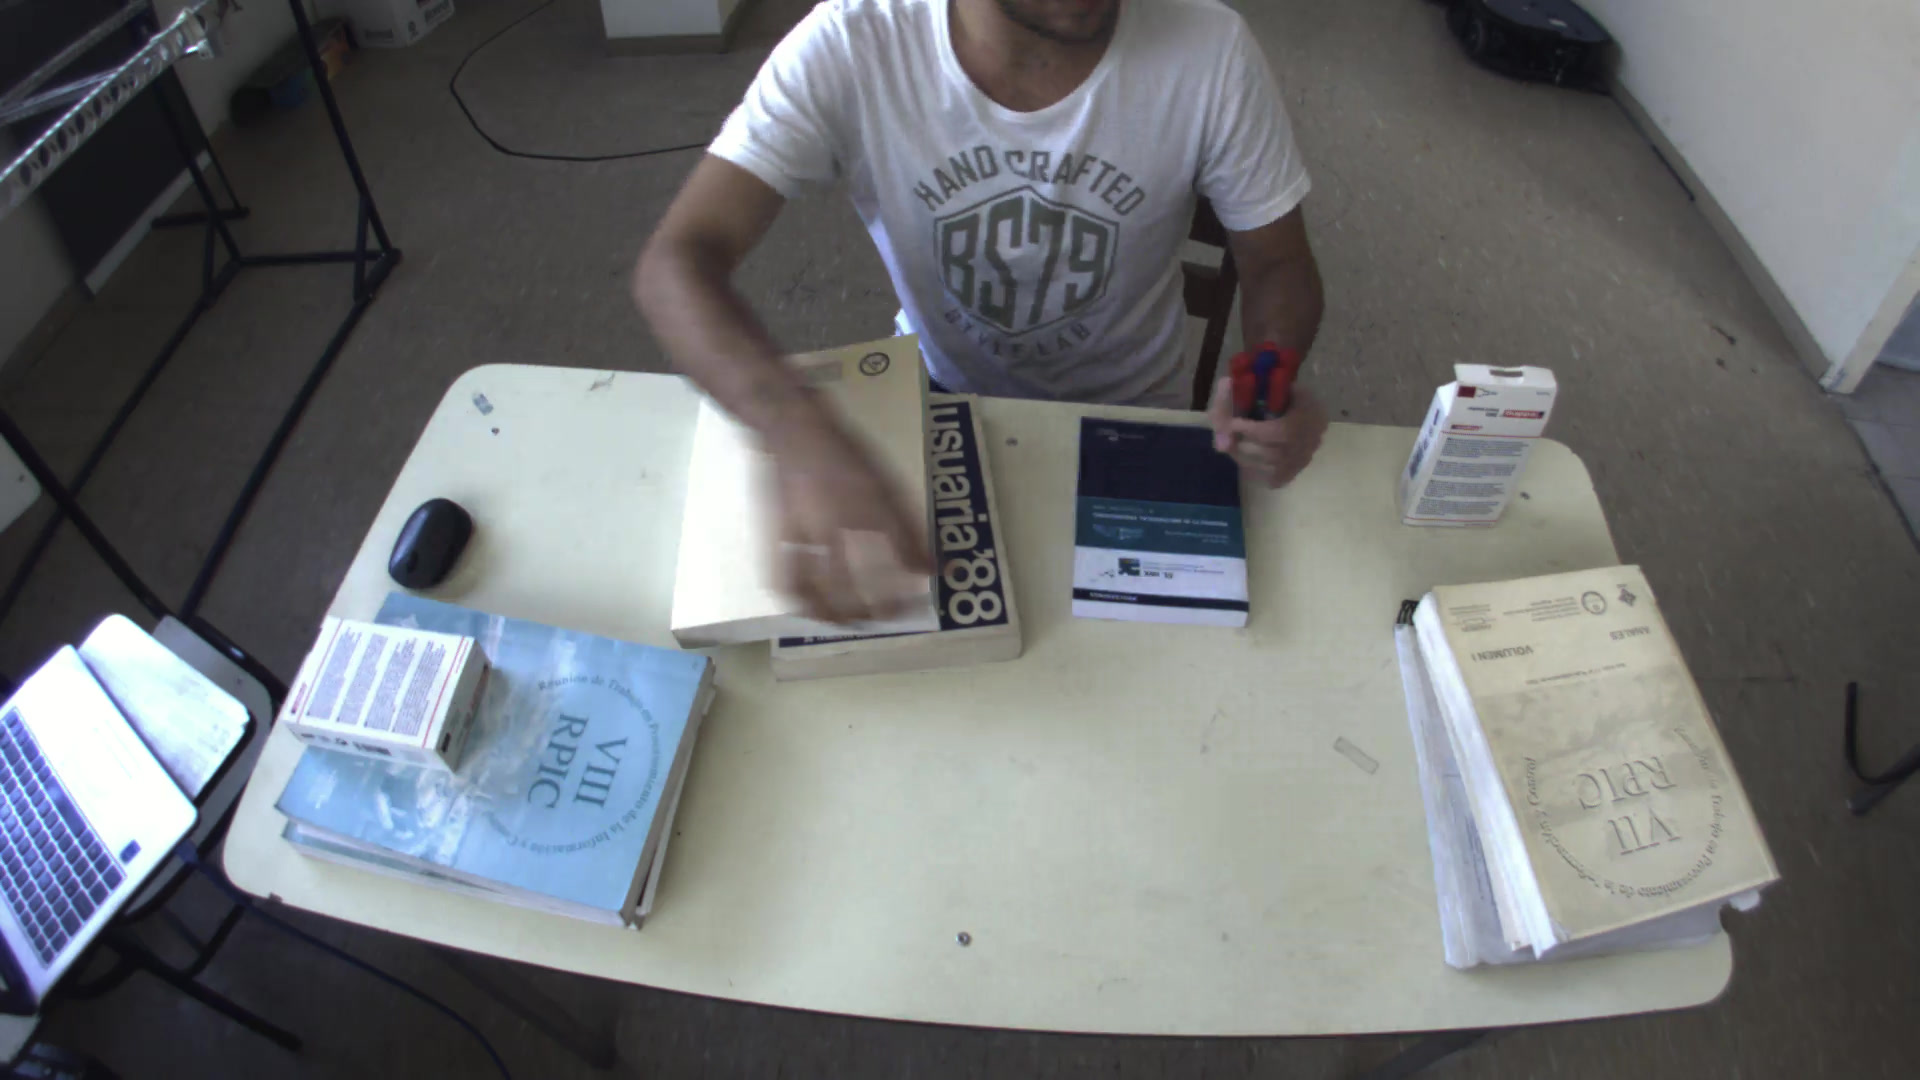hand: (1195, 338, 1342, 497)
